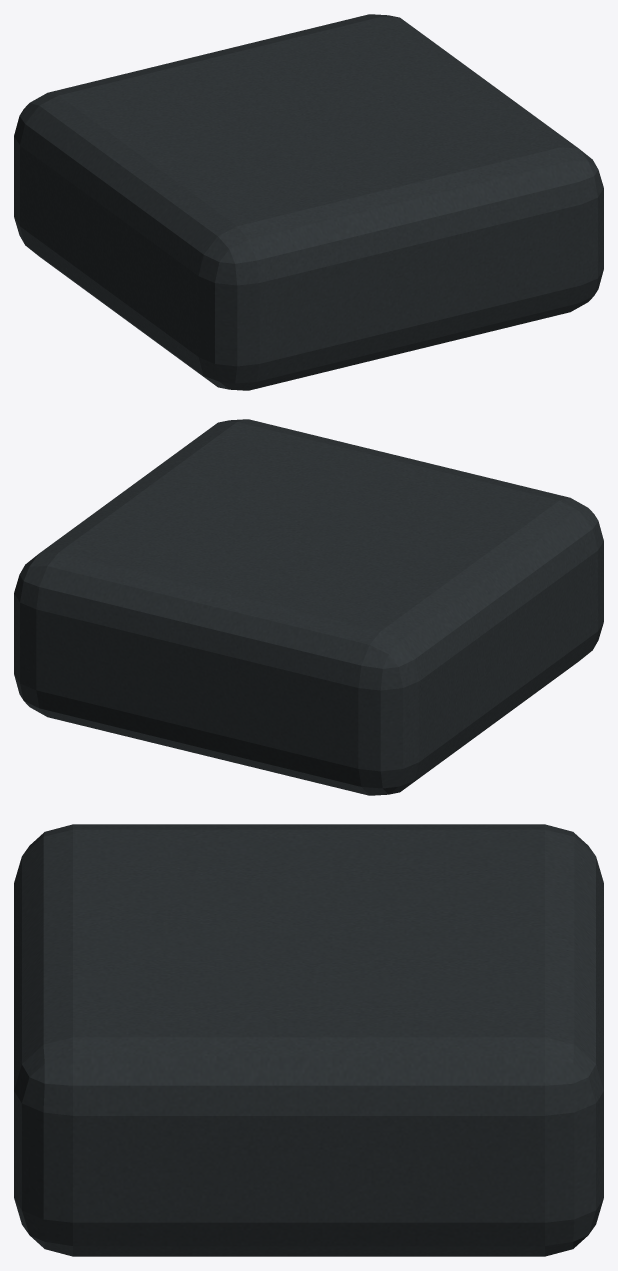
File: kite01.charging_handle.glb
3 renders of one model, top to bottom at view 1: azimuth 30°, elevation 25°; view 2: azimuth 150°, elevation 25°; view 3: azimuth 270°, elevation 25°, orthographic. The views are drawn at different scales.
Visible parts, largest first — view 1: VIS_kite01_charging_handle; view 2: VIS_kite01_charging_handle; view 3: VIS_kite01_charging_handle.
Part boxes in pixels (x1,y1,x2,y2): VIS_kite01_charging_handle: (14,14,603,390); VIS_kite01_charging_handle: (14,419,603,795); VIS_kite01_charging_handle: (14,824,603,1256).
Size of the model in its own units: 0.031 by 0.012 by 0.03.
Materials: 1 (1 with a texture image).
